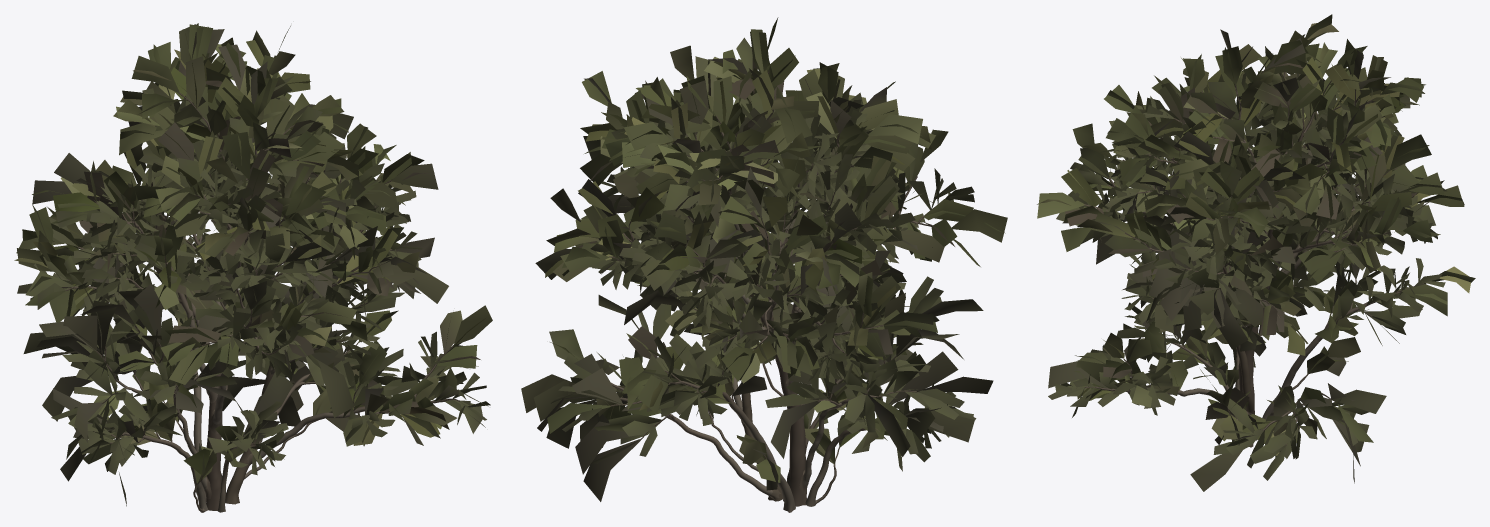
File: SM_BlackAlder_Field_05_PP_LOD2.gltf
3 renders of one model, left to right at view 1: azimuth 30°, elevation 25°; view 2: azimuth 150°, elevation 25°; view 3: azimuth 270°, elevation 25°, orthographic. The views are drawn at different scales.
Visible parts, largest first — view 1: SM_BlackAlder_Field_05_PP; view 2: SM_BlackAlder_Field_05_PP; view 3: SM_BlackAlder_Field_05_PP.
Part boxes in pixels (left/top/right/bottom): SM_BlackAlder_Field_05_PP: left=14, top=23, right=492, bottom=512; SM_BlackAlder_Field_05_PP: left=521, top=17, right=1007, bottom=512; SM_BlackAlder_Field_05_PP: left=1037, top=14, right=1475, bottom=491.
Size of the model in its own units: 6.74 by 7.44 by 7.01.
3 materials, 3 textured.
